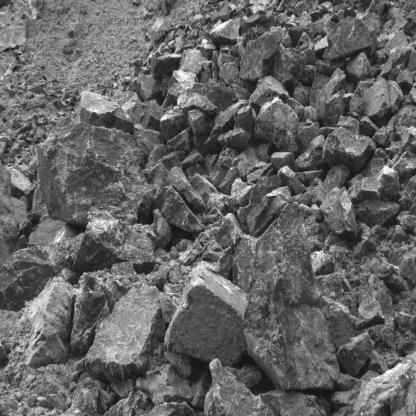stone: (234, 200, 349, 389), (35, 117, 156, 224), (164, 264, 246, 364), (80, 283, 162, 381), (333, 348, 416, 416), (73, 210, 156, 274), (70, 273, 125, 357), (203, 358, 274, 416), (27, 278, 71, 367), (0, 247, 55, 312), (322, 126, 378, 173), (254, 97, 299, 154), (322, 17, 378, 61), (352, 273, 394, 331), (152, 185, 203, 232), (78, 91, 134, 133), (245, 185, 292, 235), (349, 166, 400, 205), (240, 33, 280, 81), (259, 389, 327, 416), (320, 187, 357, 236), (268, 39, 307, 85), (335, 331, 374, 376), (316, 69, 349, 120), (311, 164, 352, 205), (363, 76, 391, 122), (354, 200, 401, 227), (216, 211, 245, 254), (211, 145, 238, 191), (294, 134, 327, 171), (250, 76, 288, 105), (134, 122, 164, 157), (250, 176, 284, 205), (177, 93, 219, 115), (178, 49, 208, 79), (345, 51, 372, 84), (209, 19, 240, 47), (316, 271, 342, 301), (236, 147, 259, 180), (188, 110, 212, 137), (221, 61, 240, 86), (313, 35, 329, 58)
